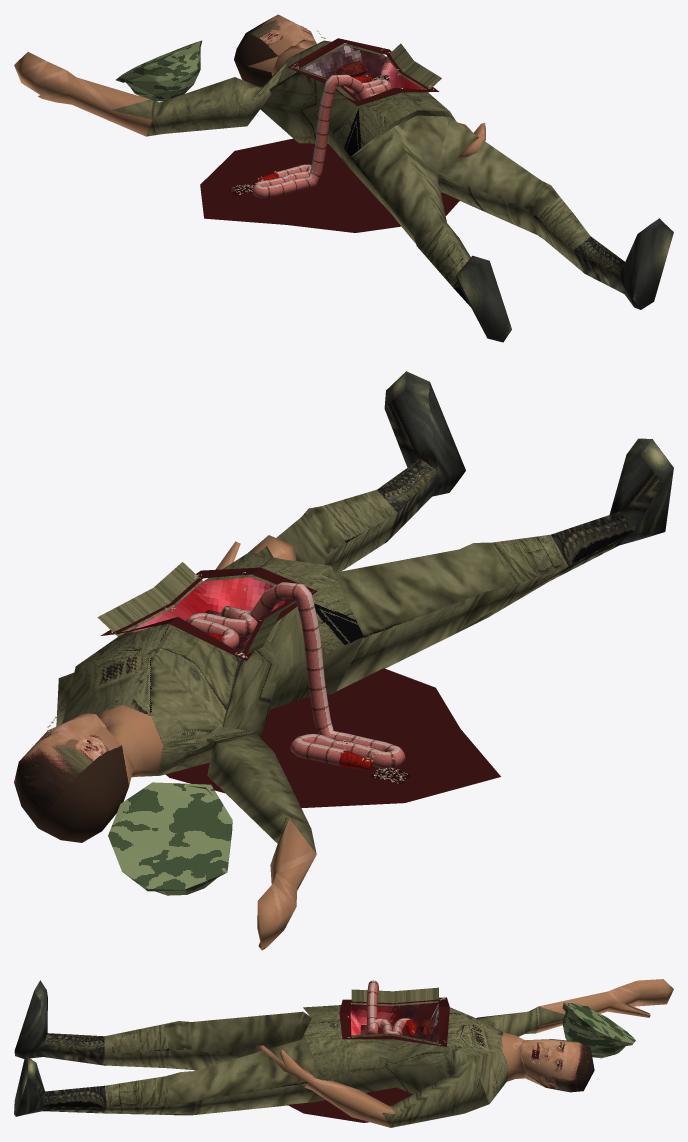
The model's file is gore_corpse_us.glb.
3 renders of one model, top to bottom at view 1: azimuth 30°, elevation 25°; view 2: azimuth 150°, elevation 25°; view 3: azimuth 270°, elevation 25°, orthographic. The views are drawn at different scales.
Visible parts, largest first — view 1: gore_corpse_us; view 2: gore_corpse_us; view 3: gore_corpse_us.
Boxes of the visible parts, bbox=[...] form: gore_corpse_us: bbox=[14, 14, 673, 342]; gore_corpse_us: bbox=[14, 371, 673, 950]; gore_corpse_us: bbox=[14, 979, 673, 1127].
Size of what is drawn, in the model's own units: 0.8962 by 0.3198 by 2.05.
3 materials, 3 textured.
